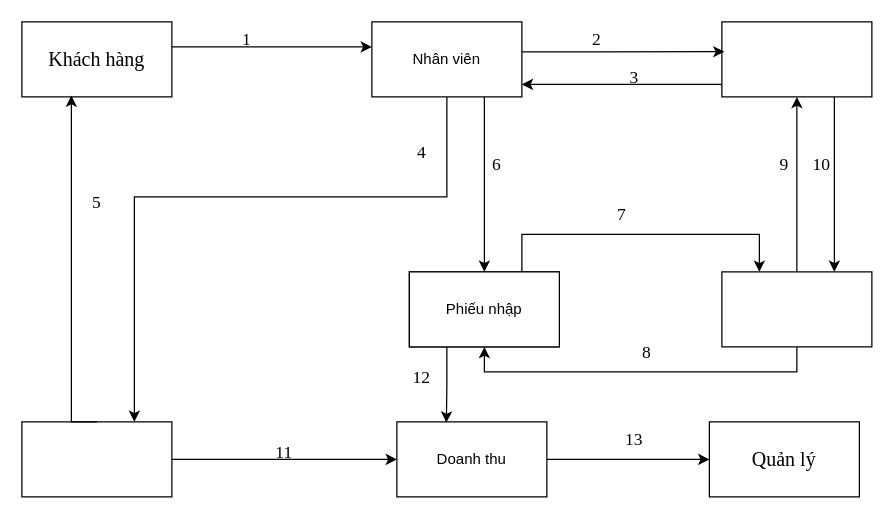
Image size: 894x519. Some labels were removed from this diagram. Here are the shapes that lost their labels. From the top down, the centre of each, then its label:
the point at 796,59: Kho hàng
the point at 796,309: Nhà cung cấp
the point at 96,459: Hóa đơn
